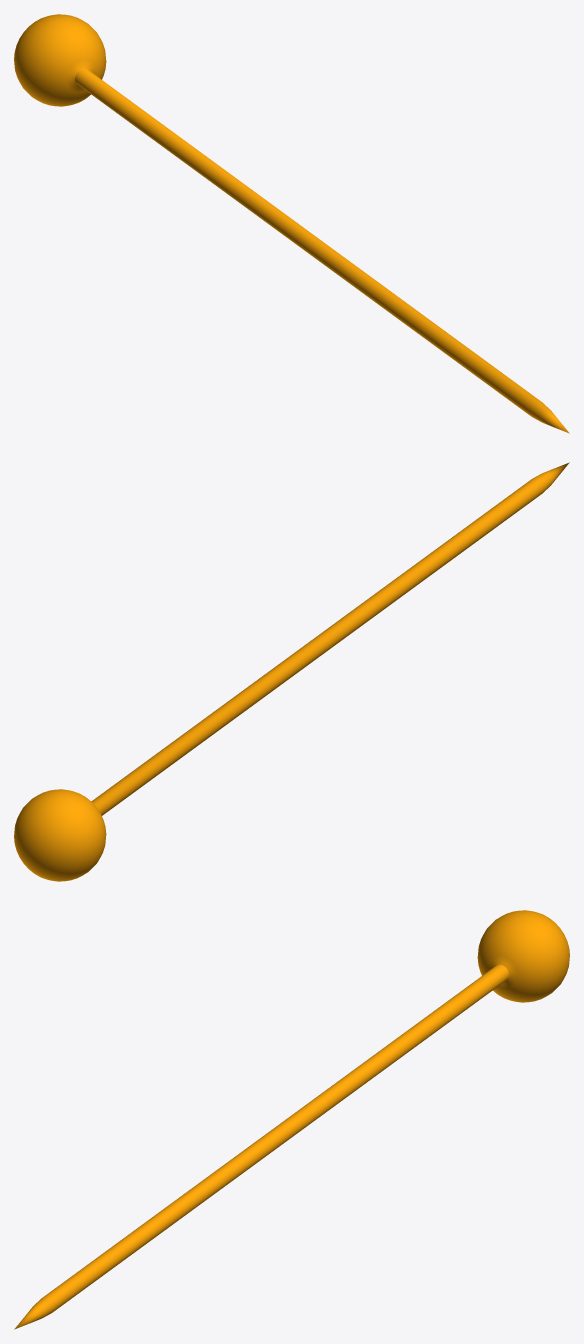
File: ORANGE.glb
3 renders of one model, top to bottom at view 1: azimuth 30°, elevation 25°; view 2: azimuth 150°, elevation 25°; view 3: azimuth 330°, elevation 25°, orthographic.
Parts seen in each view (by area): view 1: Sphere; view 2: Sphere; view 3: Sphere.
Boxes of the visible parts, bbox=[...] form: Sphere: bbox=[14, 14, 569, 433]; Sphere: bbox=[14, 462, 569, 881]; Sphere: bbox=[14, 910, 569, 1329].
Size of the model in its own units: 0.02 by 0.02 by 0.2305.
